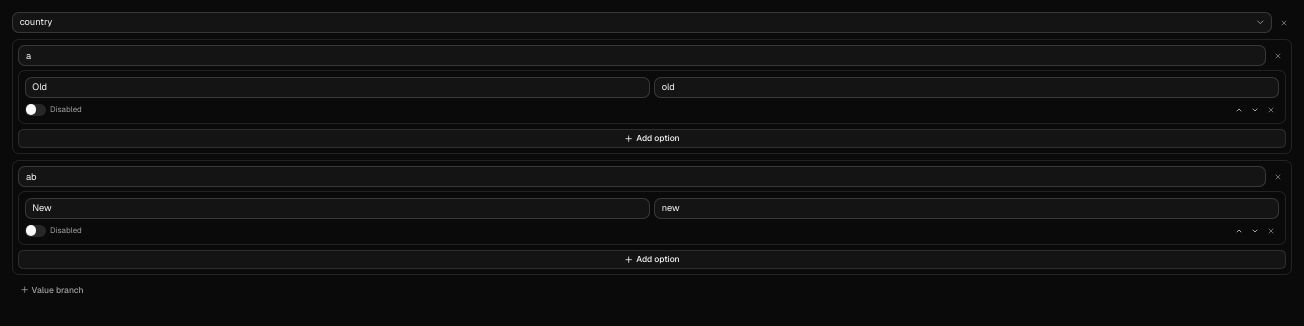
Test case: OptionsFromEditor › a transient rename collision never destroys the older branch (first key wins)
Replace the text in the field named "Branch 2 source value" with "a" at (642, 177), box [18,166,1266,187]
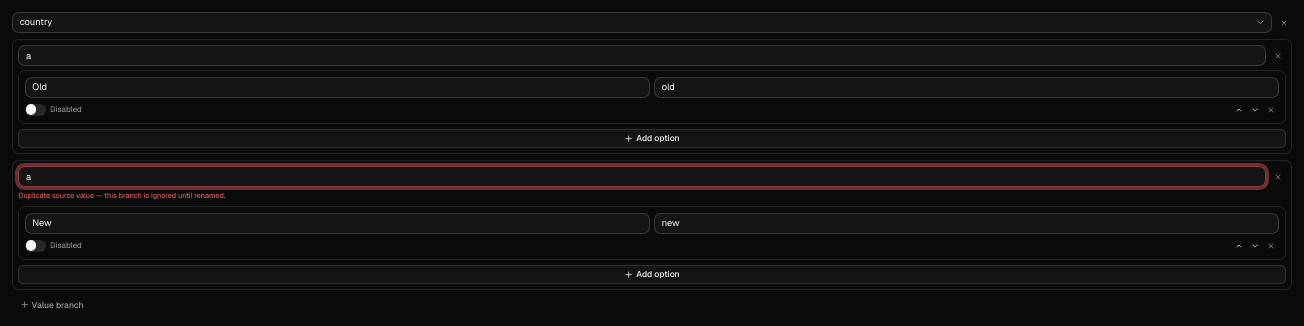
Now the text "Duplicate source value" is shown, box [18,191,225,200]
Replace the text in the field named "Branch 2 source value" with "ac" at (642, 177), box [18,166,1266,187]
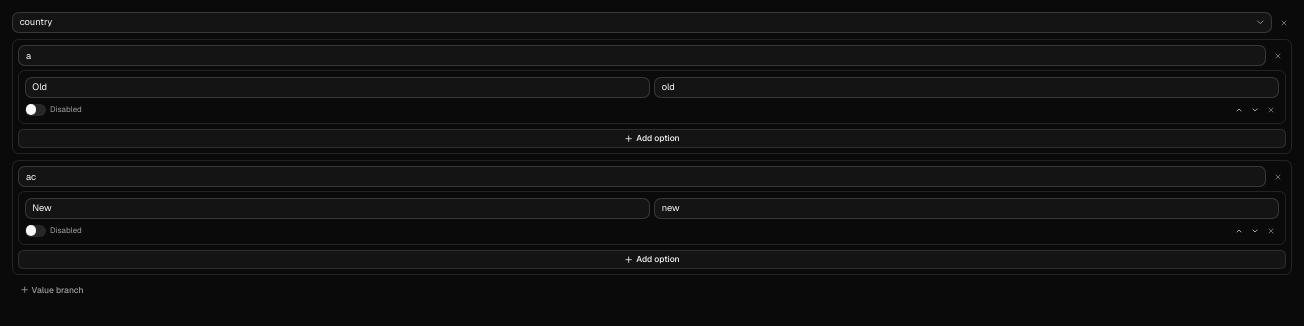
Now the text "Duplicate source value" is gone
